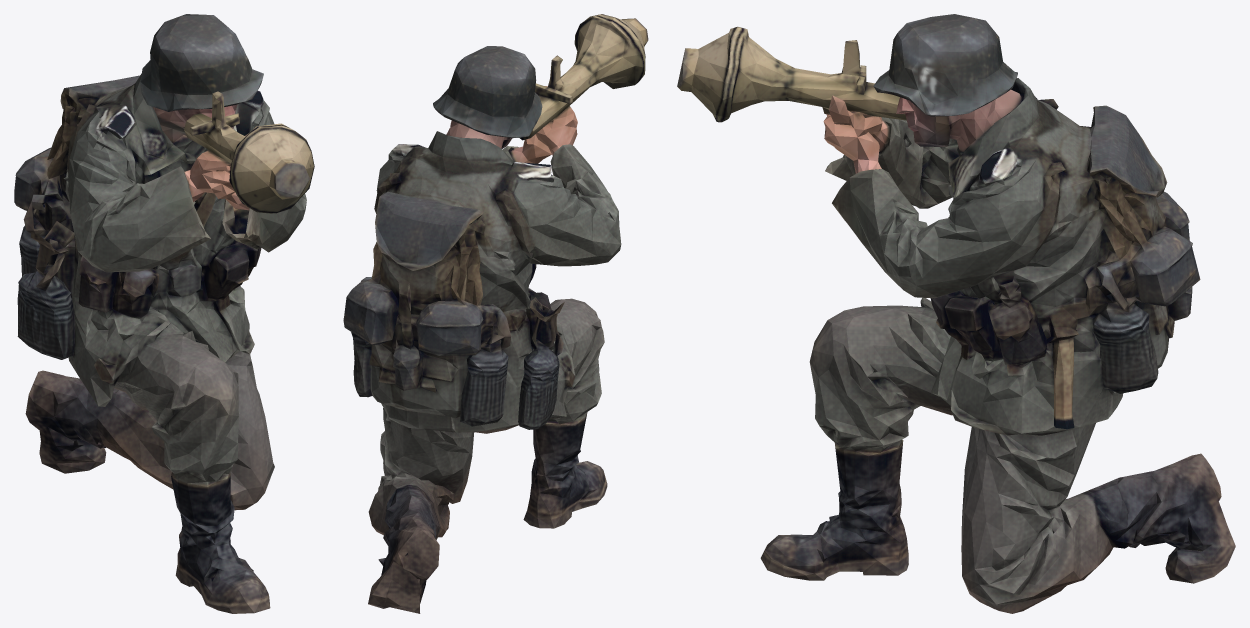
Rendered from soldier_b.obj.
3 views of the same model, side by side, from view 1: azimuth 30°, elevation 25°; view 2: azimuth 150°, elevation 25°; view 3: azimuth 270°, elevation 25° (orthographic). The views are drawn at different scales.
Visible parts, largest first — view 1: soldier_b; view 2: soldier_b; view 3: soldier_b.
Part boxes in pixels (<box>): soldier_b: <box>14,14,314,613</box>; soldier_b: <box>343,14,648,613</box>; soldier_b: <box>677,14,1235,613</box>.
Size of the model in its own units: 0.5842 by 1.3 by 1.17.
Materials: 1 (1 with a texture image).
